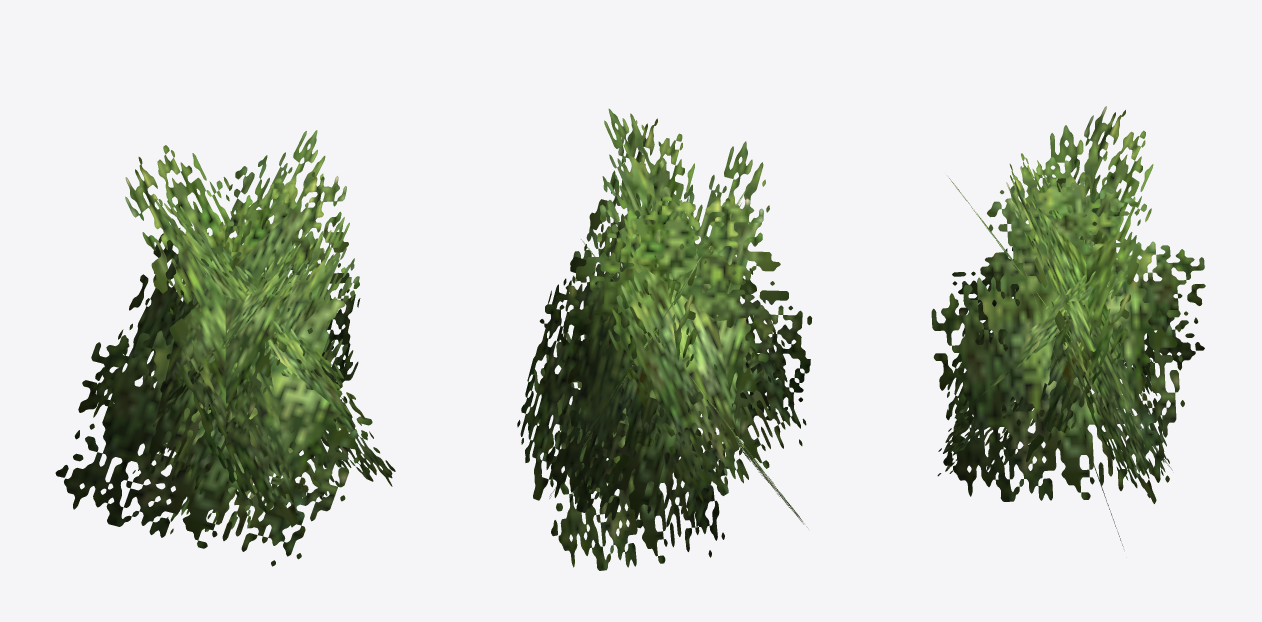
Rendered from shrub-6.glb.
The picture shows the model from 3 angles, left to right: view 1: azimuth 30°, elevation 25°; view 2: azimuth 150°, elevation 25°; view 3: azimuth 270°, elevation 25°; orthographic projection. The views are drawn at different scales.
Parts seen in each view (by area): view 1: shrub-6; view 2: shrub-6; view 3: shrub-6.
Part boxes in pixels (x1,y1,x2,y2): shrub-6: (55,130,395,566); shrub-6: (517,108,812,570); shrub-6: (931,106,1205,546).
Bounding box in the file's own units: 2.53 × 3.16 × 2.08.
Materials: 1 (1 with a texture image).
